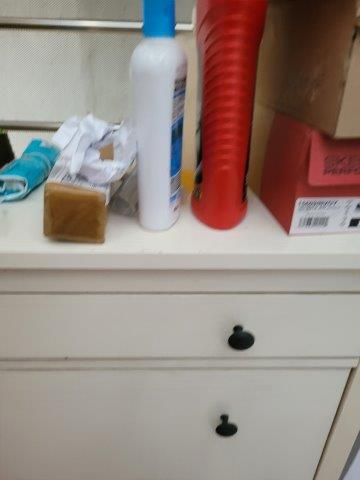kardus: (236, 1, 360, 141), (235, 104, 360, 229), (43, 180, 112, 245)
kertas: (60, 108, 137, 186)
